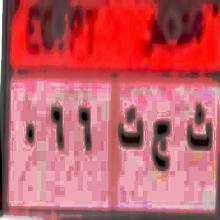0: (20, 116, 42, 156)
6: (72, 103, 98, 157), (47, 98, 66, 160)
jeem: (149, 105, 176, 184)
taa: (114, 102, 149, 156)
thaa: (186, 99, 214, 160)
